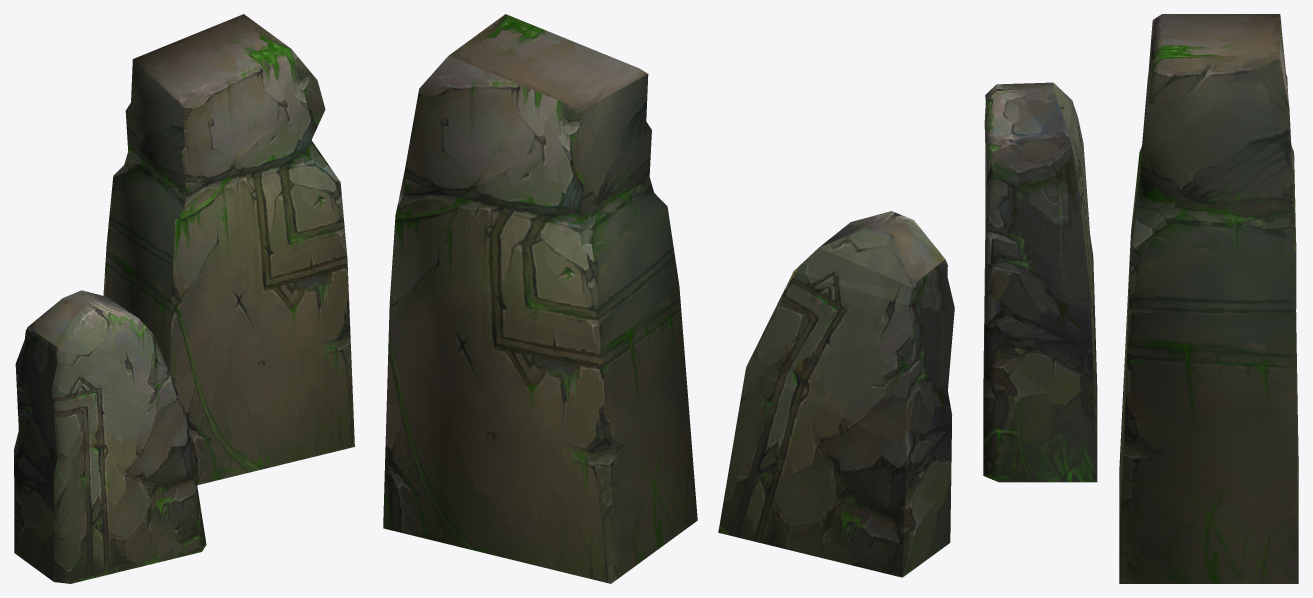
Rendered from 2_Loading_XiaoShiTouZu_01.FBX.
3 views of the same model, side by side, from view 1: azimuth 30°, elevation 25°; view 2: azimuth 150°, elevation 25°; view 3: azimuth 270°, elevation 25° (orthographic). The views are drawn at different scales.
Visible parts, largest first — view 1: 2_Loading_XiaoShiTou_02, 2_Loading_XiaoShiTou_01; view 2: 2_Loading_XiaoShiTou_02, 2_Loading_XiaoShiTou_01; view 3: 2_Loading_XiaoShiTou_02, 2_Loading_XiaoShiTou_01.
Part boxes in pixels (x1,y1,x2,y2): 2_Loading_XiaoShiTou_02: (103,14,354,485); 2_Loading_XiaoShiTou_01: (14,290,206,583); 2_Loading_XiaoShiTou_02: (383,14,697,583); 2_Loading_XiaoShiTou_01: (718,211,954,577); 2_Loading_XiaoShiTou_02: (1119,14,1298,583); 2_Loading_XiaoShiTou_01: (983,82,1097,482).
Size of the model in its own units: 341 by 379 by 211.
